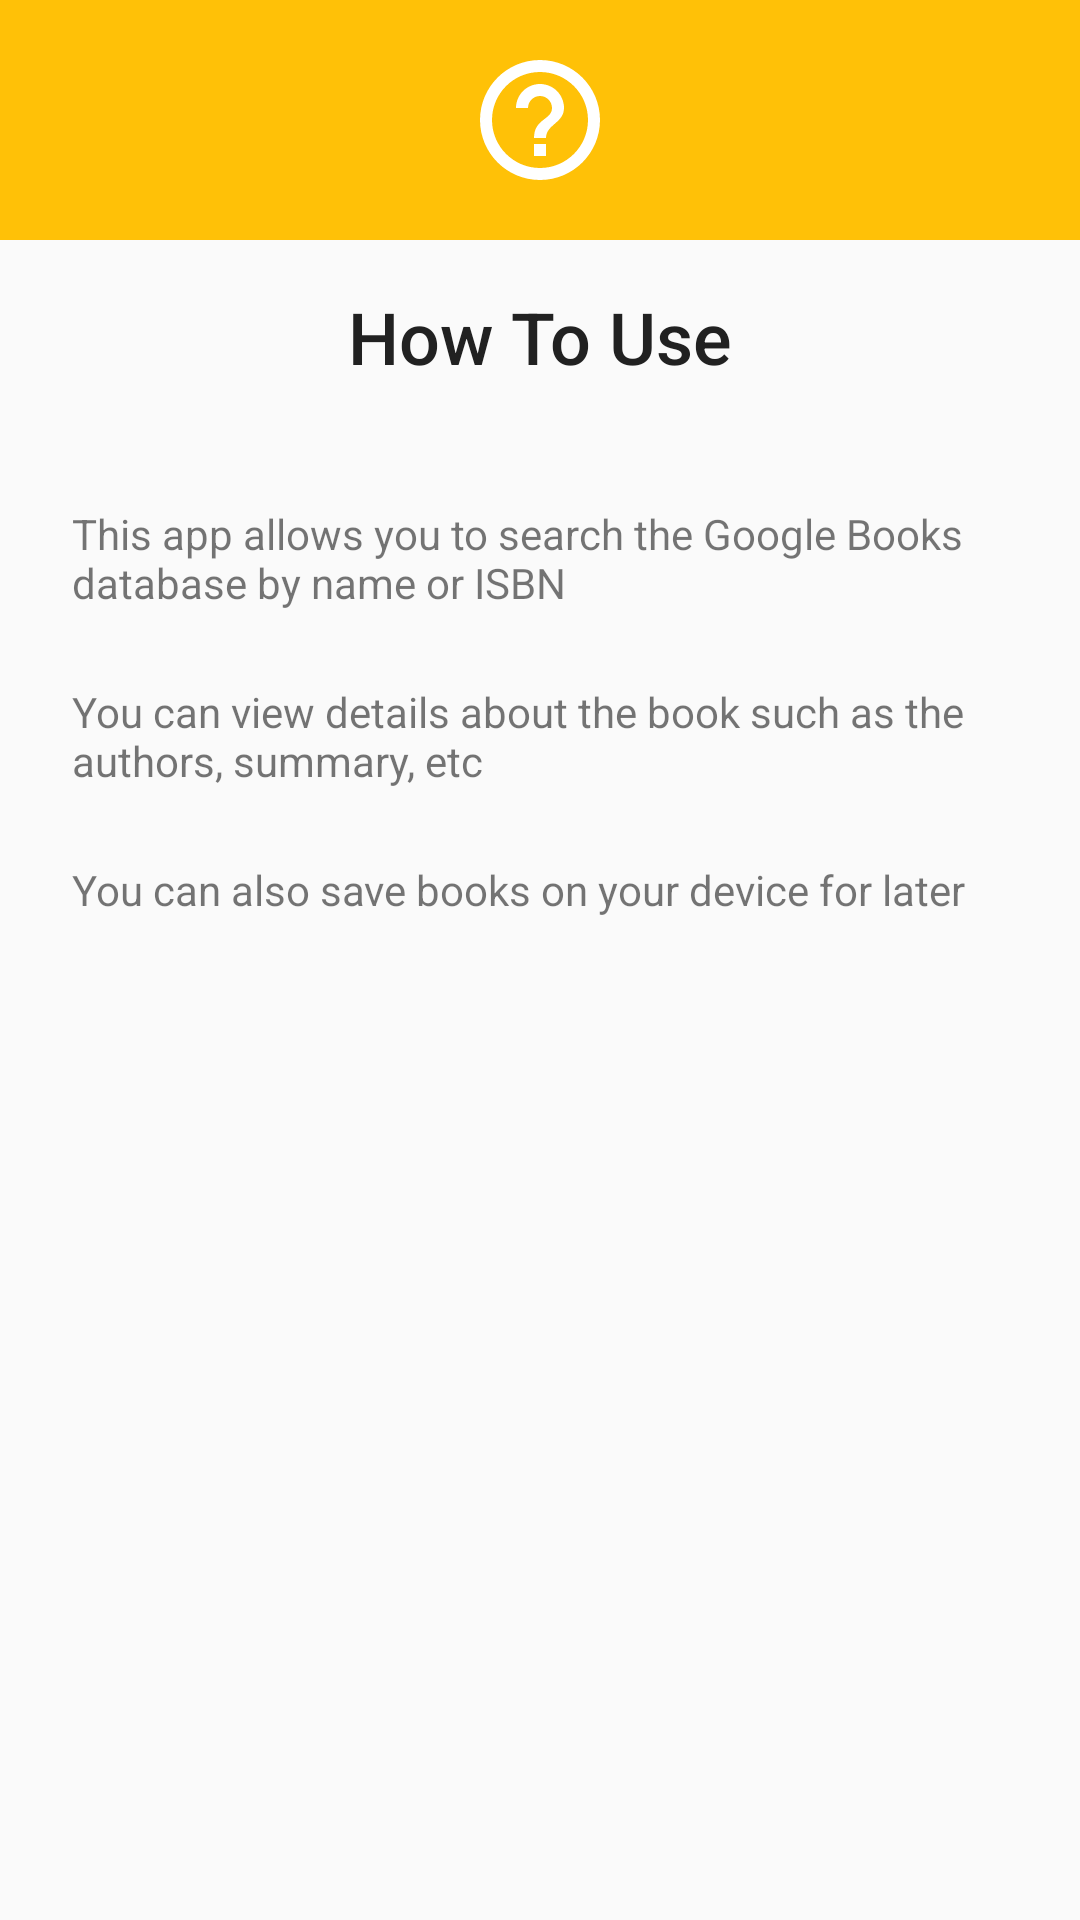

Locate icon controls on the screen. Image size 1080px x 1920px, boxes as (x1, y1, x2, y2).
help: (480, 60, 600, 180)
